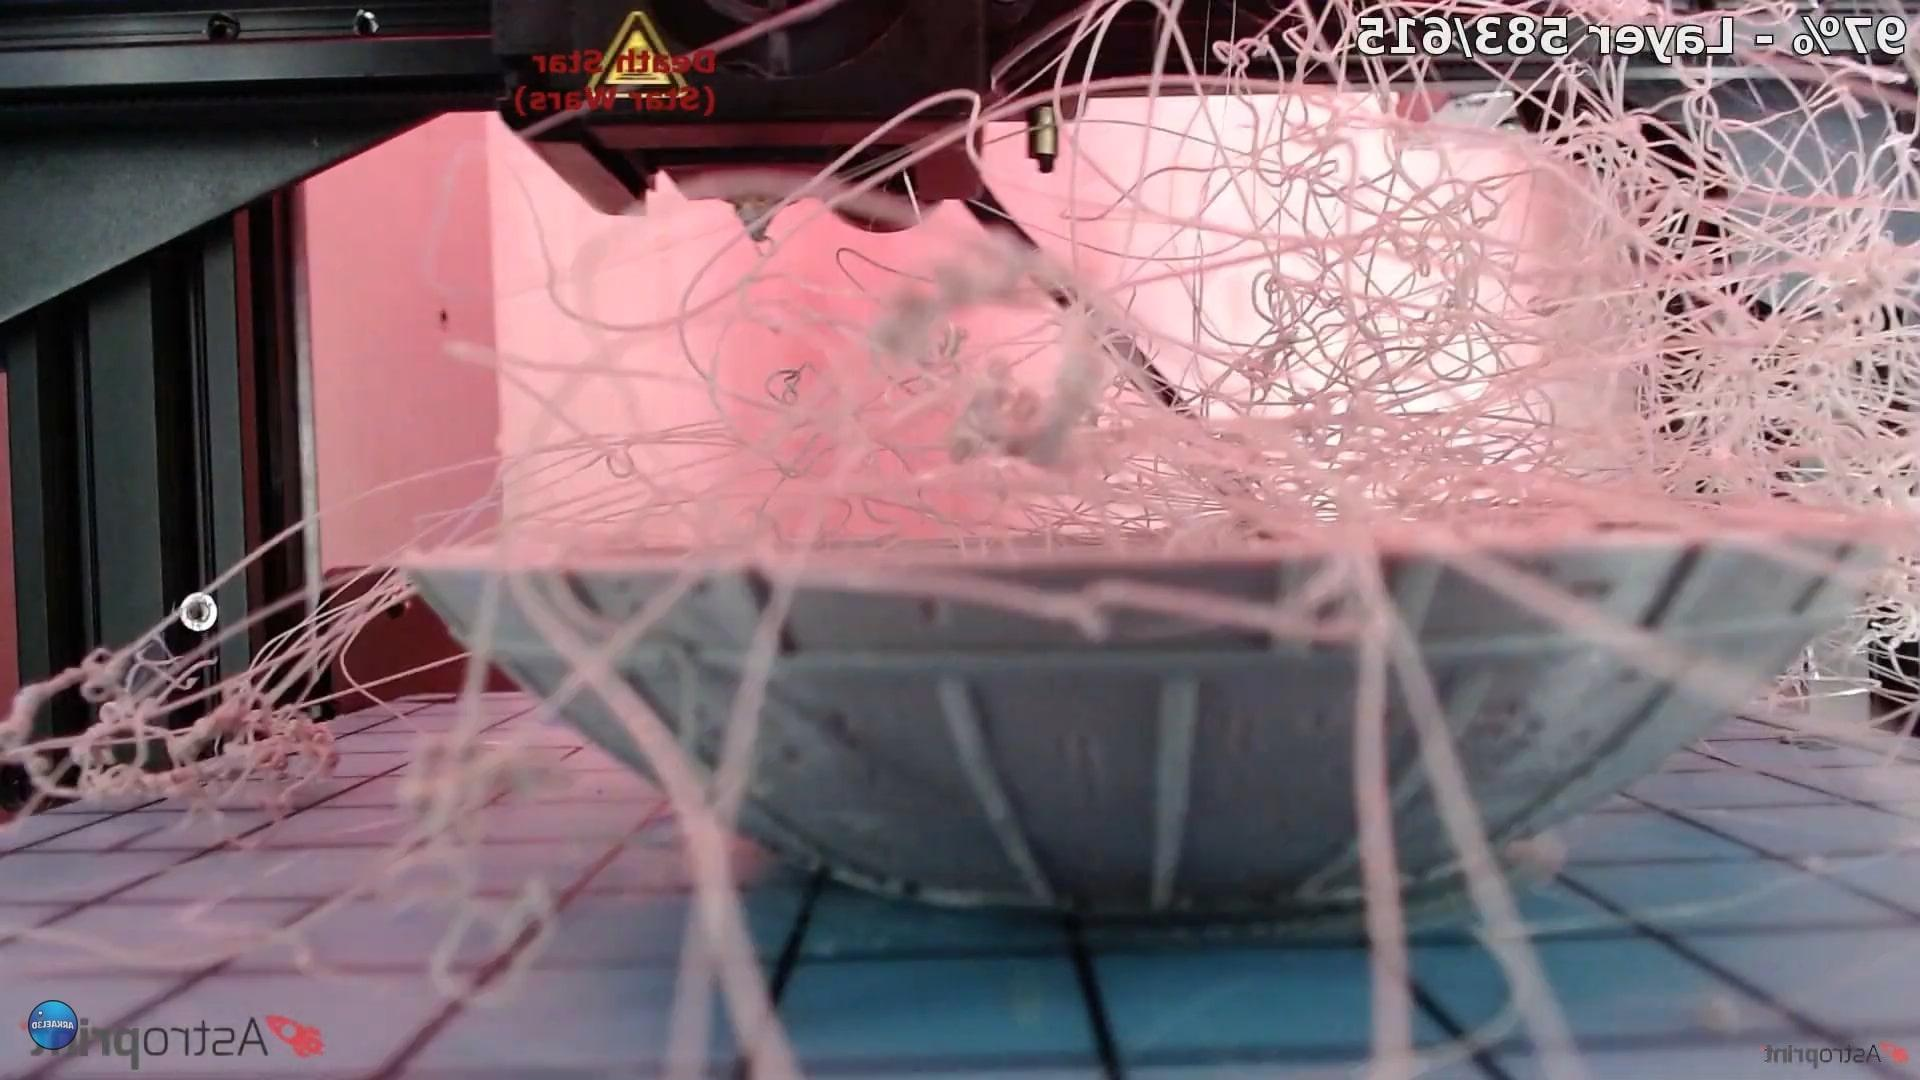Printing-Artifact: (1208, 55, 1902, 491), (15, 596, 349, 852)
